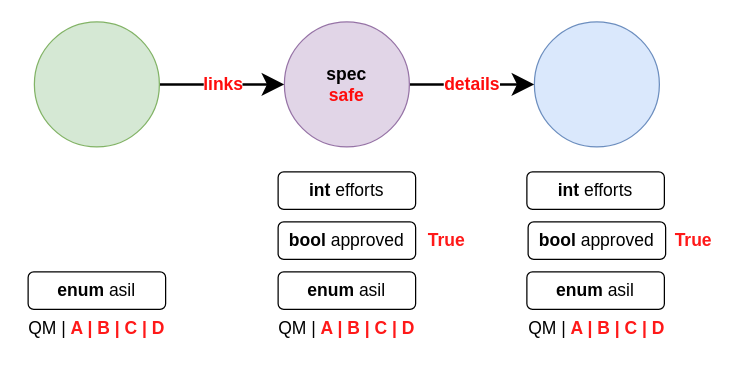
This 743x369 diagram has some shape labels left out. The shapes that lost their labels are listed below. From the top down, each one's centre as x and y in pixels, then its label:
At (96,84): "impl safe".
At (596,84): "feat safe".
